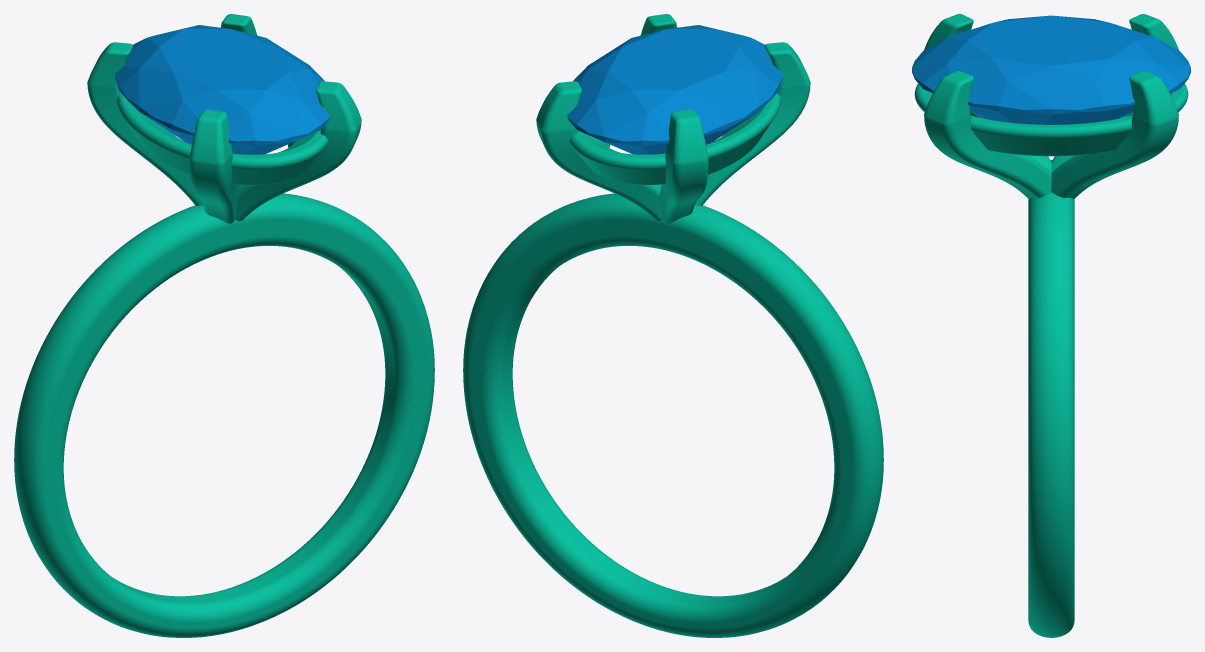
The picture shows the model from 3 angles, left to right: view 1: azimuth 30°, elevation 25°; view 2: azimuth 150°, elevation 25°; view 3: azimuth 270°, elevation 25°; orthographic projection.
Parts seen in each view (by area): view 1: 8284.ZISHAN TRADE(front).3dm, Diamond_Oval; view 2: 8284.ZISHAN TRADE(front).3dm, Diamond_Oval; view 3: 8284.ZISHAN TRADE(front).3dm, Diamond_Oval.
Boxes of the visible parts, <box> form: 8284.ZISHAN TRADE(front).3dm: <box>14,14,434,637</box>; Diamond_Oval: <box>115,25,330,154</box>; 8284.ZISHAN TRADE(front).3dm: <box>463,14,883,637</box>; Diamond_Oval: <box>567,25,782,154</box>; 8284.ZISHAN TRADE(front).3dm: <box>914,14,1188,637</box>; Diamond_Oval: <box>912,15,1190,124</box>.
Size of what is drawn, in the model's own units: 2.28 by 3.01 by 1.32.
